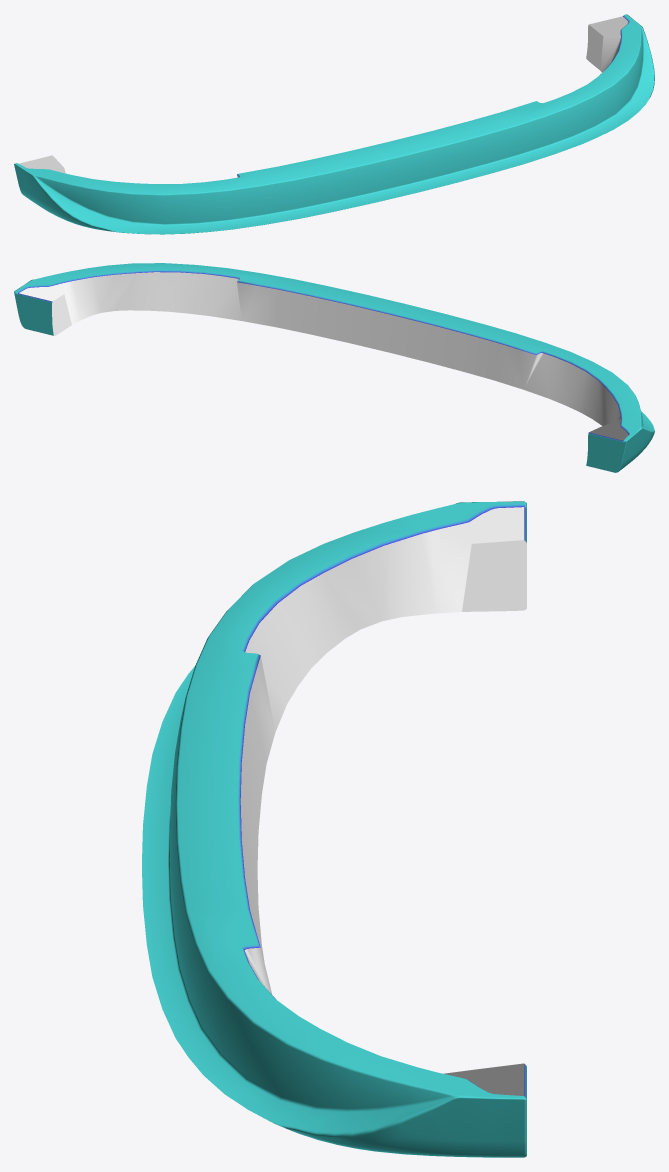
Rendered from Car_Mini_CountrymanJCW_2017_Splitter_SetD_AltC.fbx.
3 renders of one model, top to bottom at view 1: azimuth 30°, elevation 25°; view 2: azimuth 150°, elevation 25°; view 3: azimuth 270°, elevation 25°, orthographic. The views are drawn at different scales.
Parts seen in each view (by area): view 1: Splitter 6; view 2: Splitter 6; view 3: Splitter 6.
Boxes of the visible parts, bbox=[...] form: Splitter 6: bbox=[14, 14, 654, 234]; Splitter 6: bbox=[14, 263, 654, 472]; Splitter 6: bbox=[142, 501, 526, 1157].
Bounding box in the file's own units: 1.74 × 0.0963 × 0.4737.
